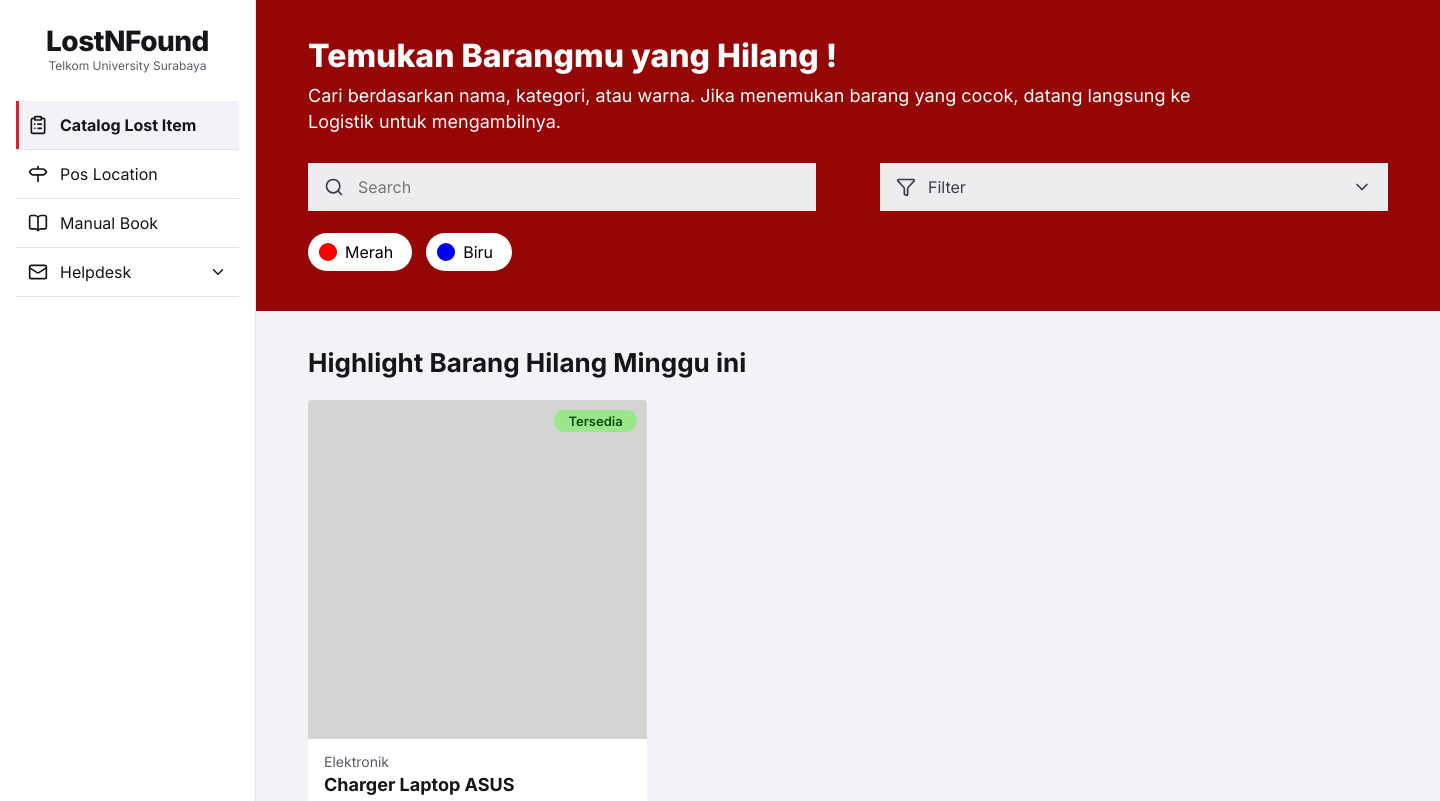
Test: katalog publik › menampilkan subkategori setelah kategori dipilih
Click the button "Filter".
click(947, 187)  # box [880,163,1388,211]
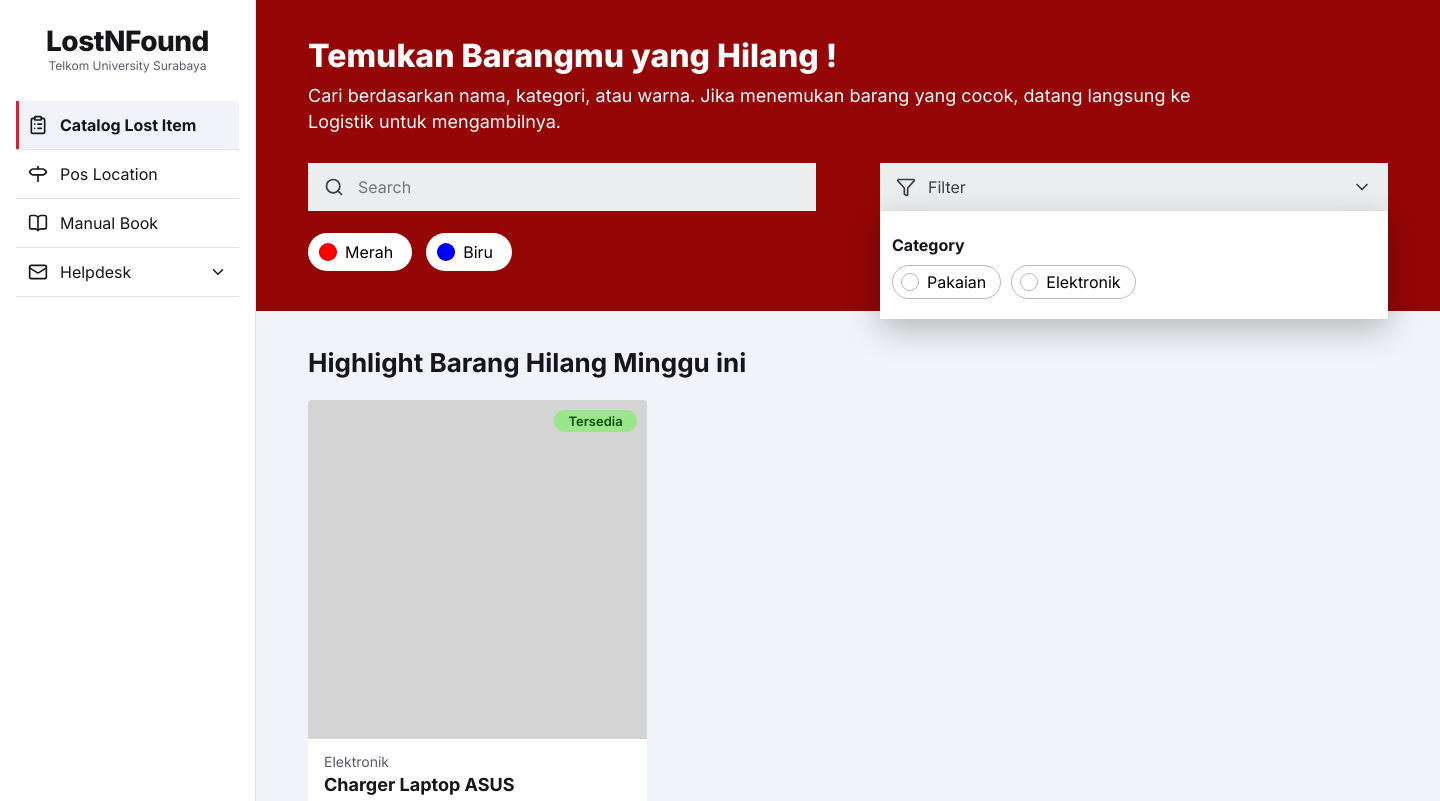
Expected: the text "Sub Category" is not shown
Click the button "Elektronik".
click(1073, 282)  # box [1011,265,1136,299]
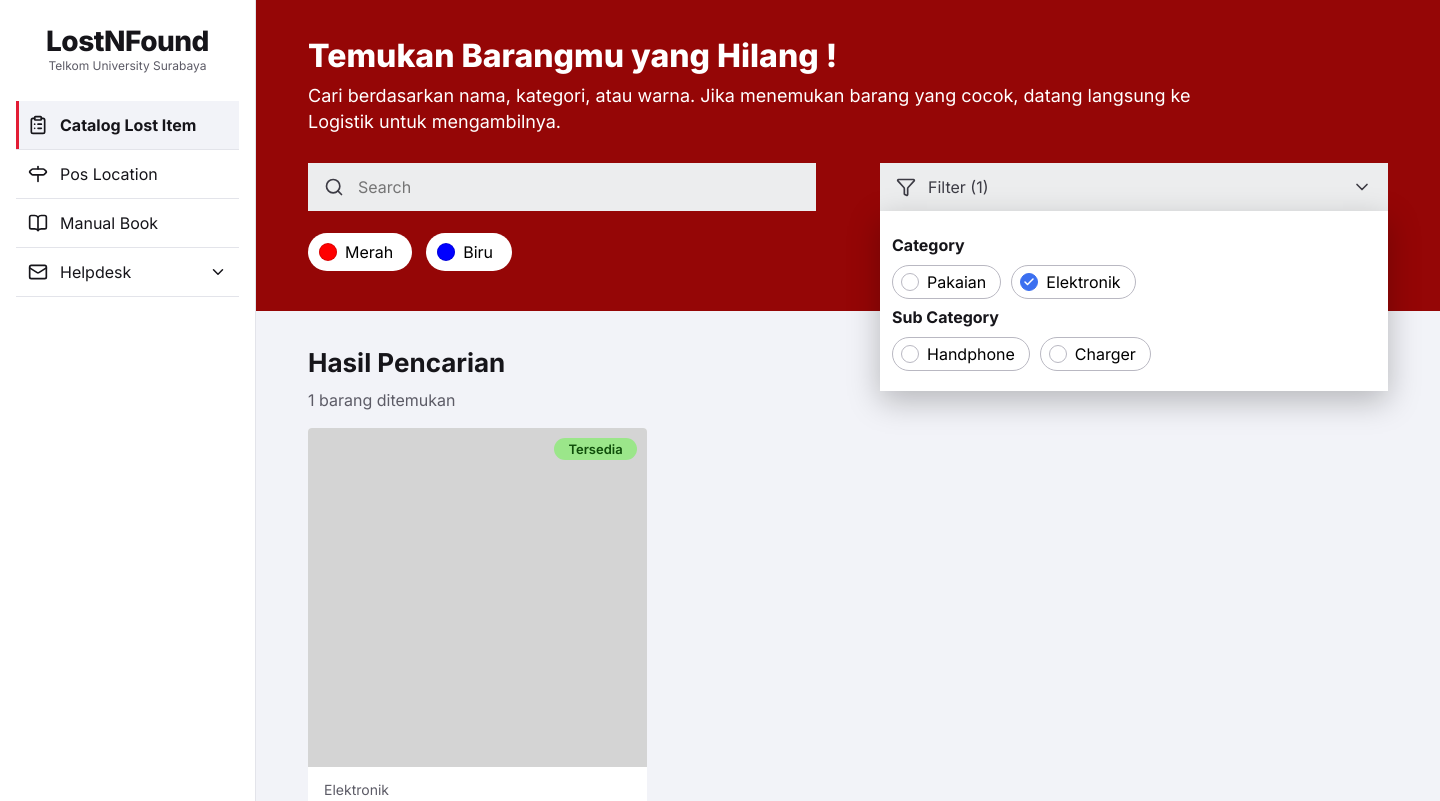
Expected: the button "Charger" is shown, [1040,337,1151,371]
Expected: the heading "Sub Category" is shown, [892,307,999,327]
